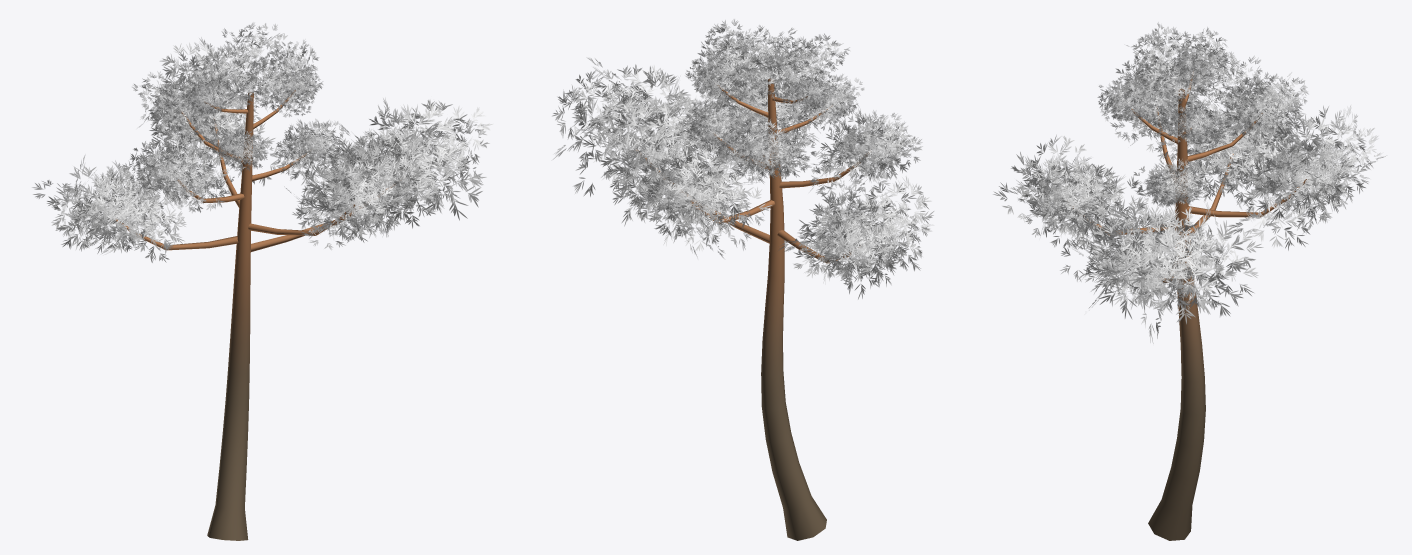
Rendered from hero.glb.
3 views of the same model, side by side, from view 1: azimuth 30°, elevation 25°; view 2: azimuth 150°, elevation 25°; view 3: azimuth 270°, elevation 25° (orthographic). The views are drawn at different scales.
Visible parts, largest first — view 1: crown, trunk; view 2: crown, trunk; view 3: crown, trunk.
Part boxes in pixels (left/top/right/bottom): crown: left=32, top=22, right=492, bottom=262; trunk: left=115, top=90, right=394, bottom=540; crown: left=552, top=19, right=934, bottom=299; trunk: left=636, top=78, right=869, bottom=540; crown: left=993, top=22, right=1386, bottom=343; trunk: left=1073, top=75, right=1306, bottom=540.
Bounding box in the file's own units: 17.32 × 19.08 × 14.
Materials: 2 (1 with a texture image).
